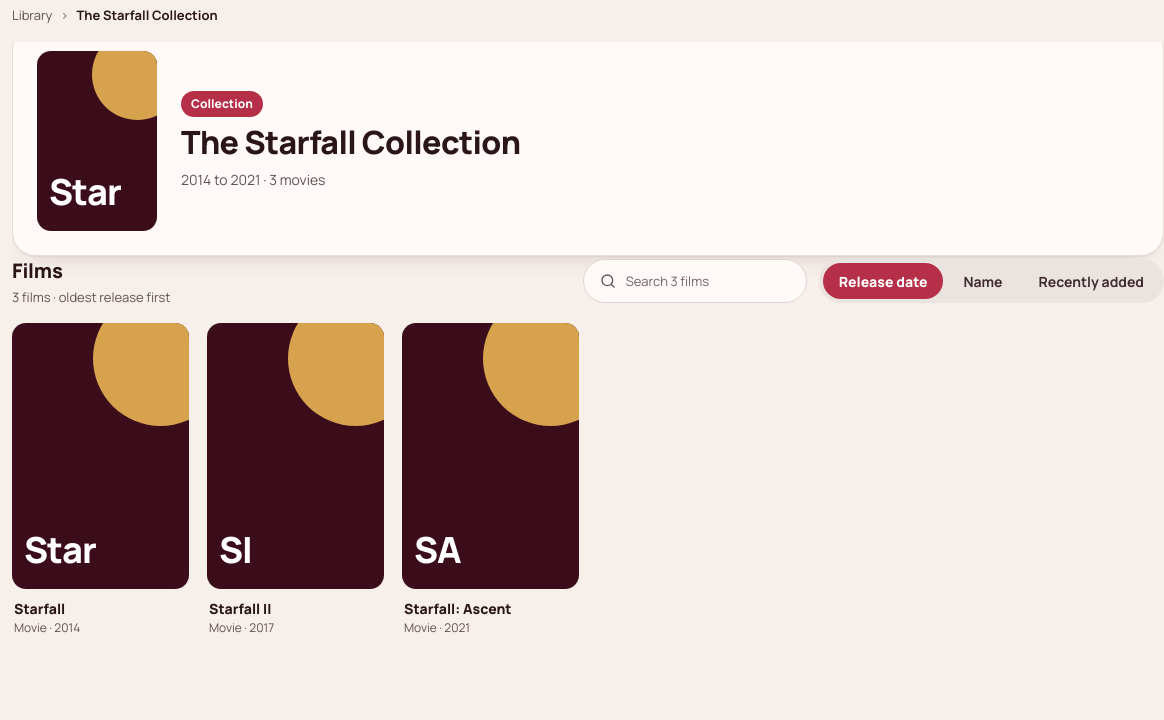
Test: FranchisePage › lists every film together when what's new comes first, and never sorts films by missing
The width and height of the screenshot is (1164, 720).
Click the radio button labelled "Recently added".
click(1091, 281)  # box [1022,263,1160,299]
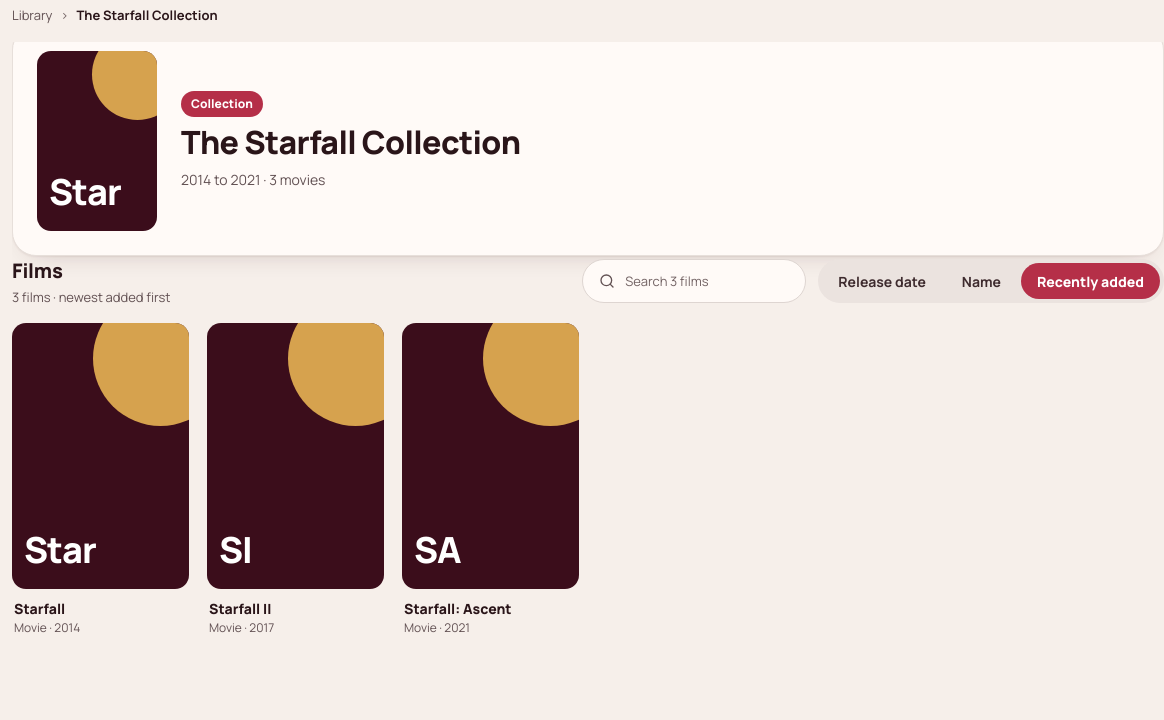
Check: the text "3 films · newest added first" is shown, box [12,288,170,307]
